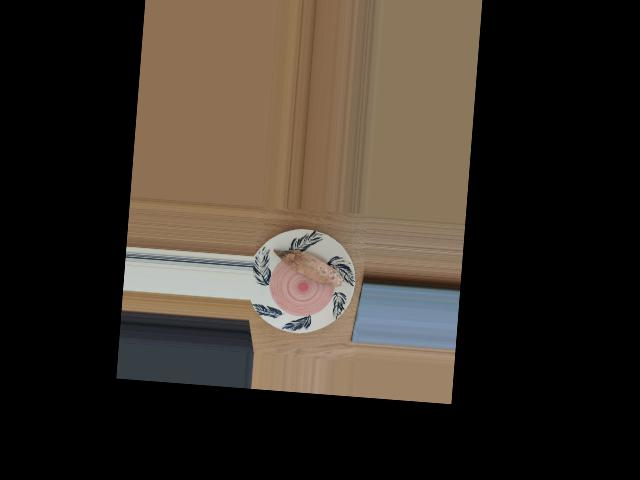sweet_potato: (278, 248, 340, 289)
